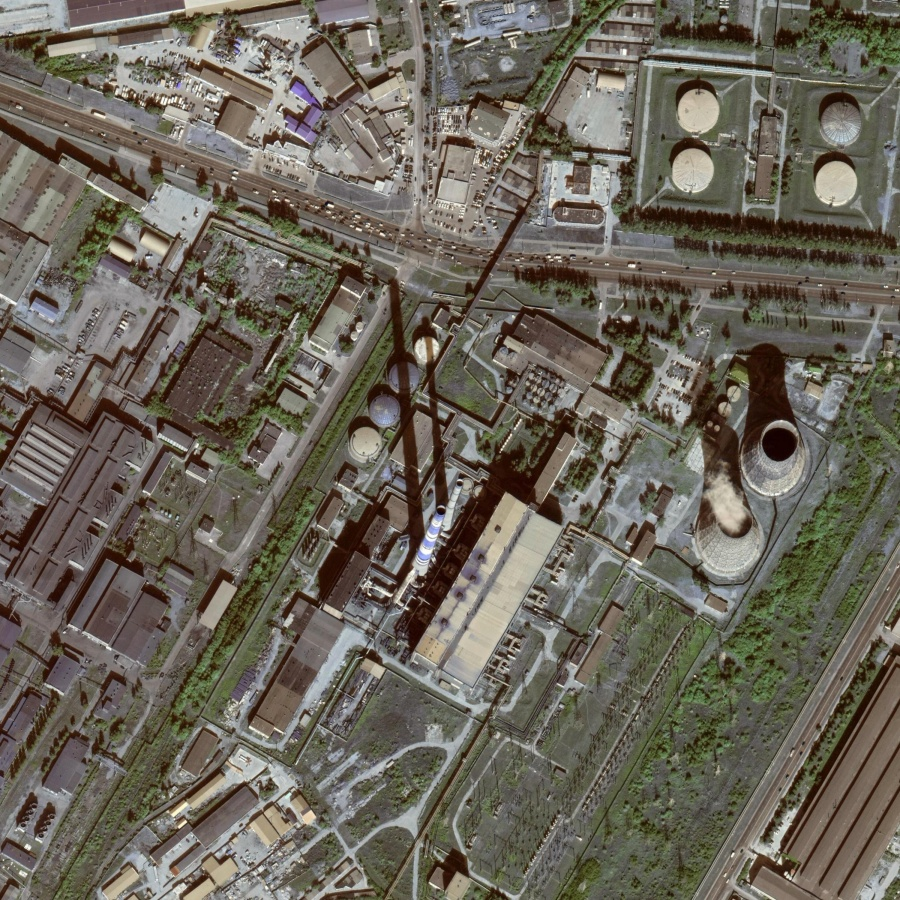PowerPlant: (330, 240, 819, 617)
